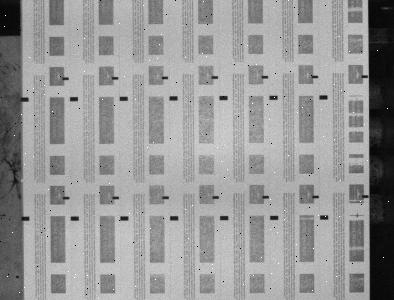backgroundclutter: (16, 275, 19, 278)
qblock: (21, 216, 30, 221), (20, 97, 29, 102), (119, 96, 128, 101), (320, 215, 329, 220), (71, 216, 79, 221), (271, 215, 279, 220), (270, 95, 278, 100), (320, 95, 328, 100), (170, 216, 179, 220), (120, 216, 129, 220), (220, 216, 229, 220), (220, 96, 228, 100), (170, 96, 178, 100), (70, 97, 78, 101)
smallqblock: (112, 76, 119, 80), (263, 195, 269, 199), (63, 196, 70, 199), (112, 196, 119, 199), (162, 196, 169, 199), (363, 195, 370, 198), (62, 77, 69, 80), (313, 195, 320, 198), (213, 196, 220, 199), (162, 76, 169, 79), (212, 76, 219, 79), (262, 75, 269, 78), (362, 75, 369, 78), (312, 75, 319, 78)
